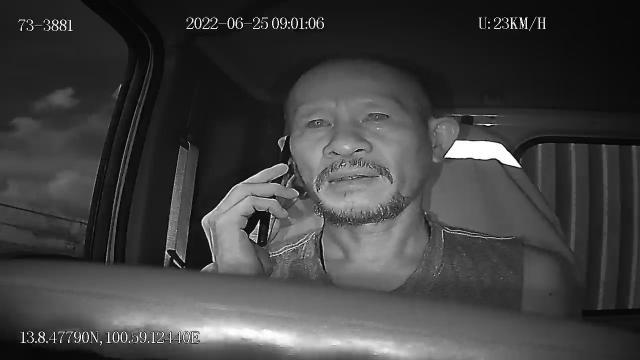PhoneUse: (255, 134, 295, 246)
SafeDriving: (356, 101, 399, 131), (297, 106, 339, 136)
